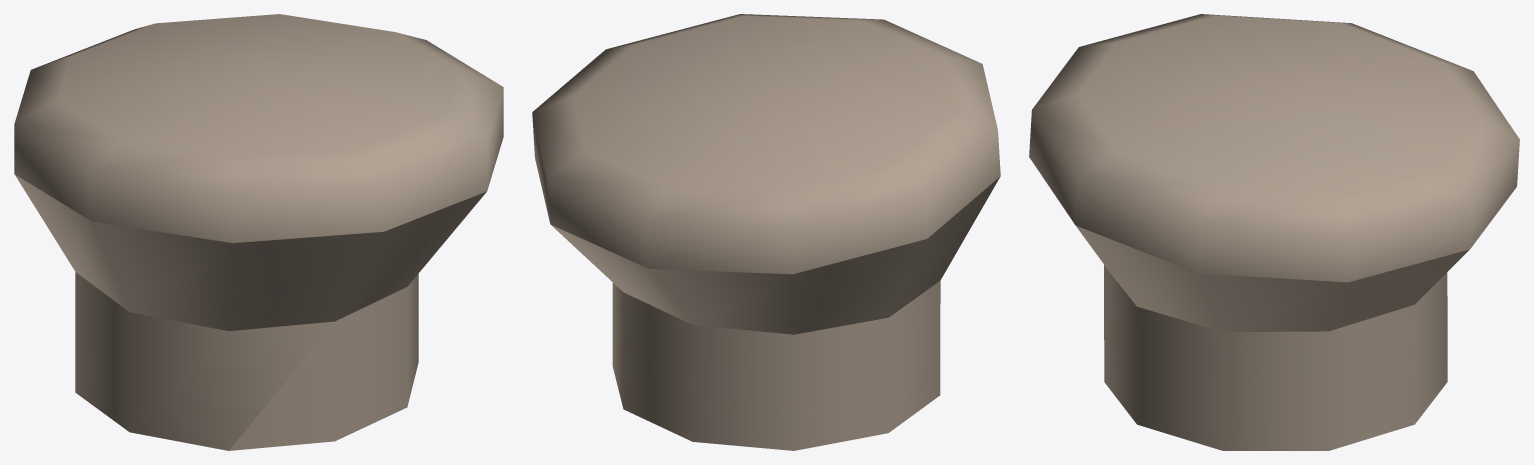
Rendered from Charakter_Chef_cap.FBX.
3 renders of one model, left to right at view 1: azimuth 30°, elevation 25°; view 2: azimuth 150°, elevation 25°; view 3: azimuth 270°, elevation 25°, orthographic. The views are drawn at different scales.
Visible parts, largest first — view 1: Charakter_Chef_cap; view 2: Charakter_Chef_cap; view 3: Charakter_Chef_cap.
Part boxes in pixels (x1,y1,x2,y2): Charakter_Chef_cap: (14, 14, 503, 450); Charakter_Chef_cap: (532, 14, 1000, 450); Charakter_Chef_cap: (1029, 14, 1519, 450).
Size of the model in its own units: 187 by 197 by 131.
